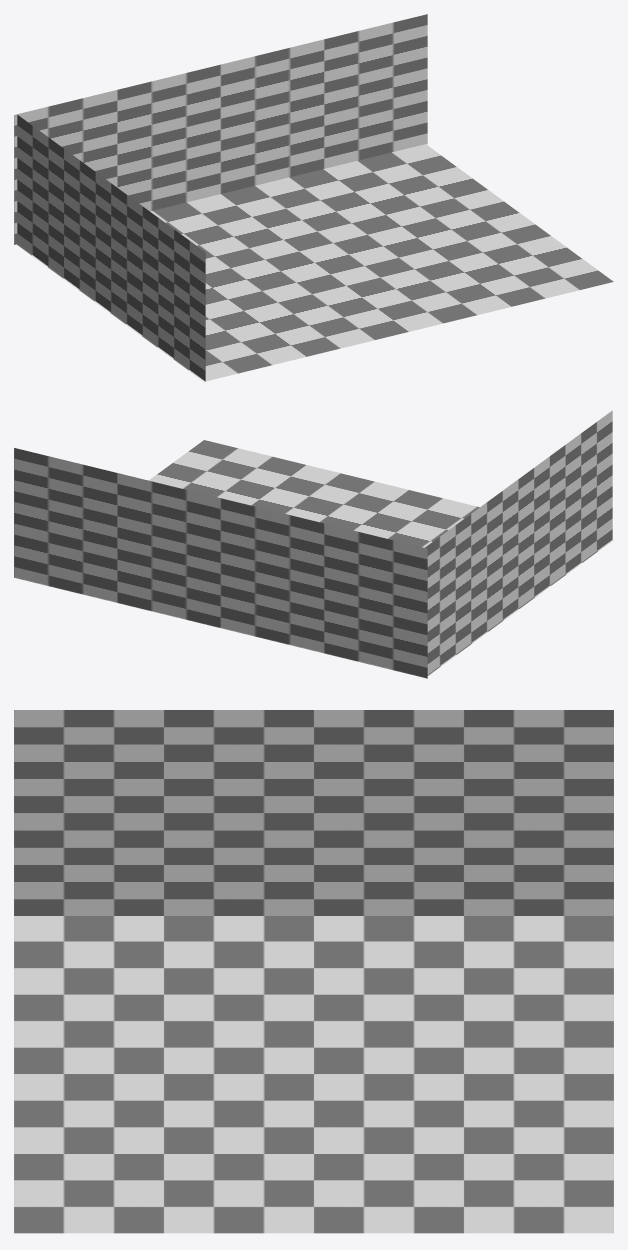
3 views of the same model, one above another, from view 1: azimuth 30°, elevation 25°; view 2: azimuth 150°, elevation 25°; view 3: azimuth 270°, elevation 25° (orthographic). The views are drawn at different scales.
Visible parts, largest first — view 1: Plane, Plane.003, Plane.002; view 2: Plane.003, Plane.002, Plane; view 3: Plane, Plane.002.
Part boxes in pixels (bbox=[...]): Plane: bbox=[16, 144, 613, 381]; Plane.003: bbox=[14, 14, 427, 244]; Plane.002: bbox=[17, 115, 205, 381]; Plane.003: bbox=[14, 448, 427, 678]; Plane.002: bbox=[425, 410, 612, 674]; Plane: bbox=[17, 440, 613, 677]; Plane: bbox=[14, 916, 613, 1233]; Plane.002: bbox=[14, 710, 613, 915].
Bounding box in the file's own units: 4.06 × 1.22 × 3.21.
Materials: 1 (1 with a texture image).
